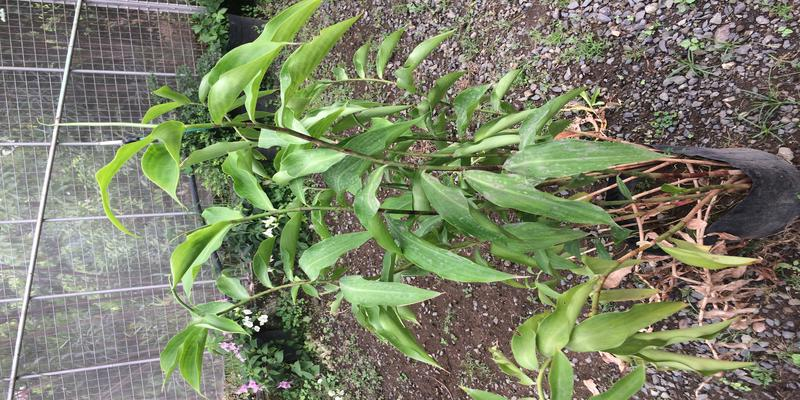Insulin: (99, 40, 707, 305)
